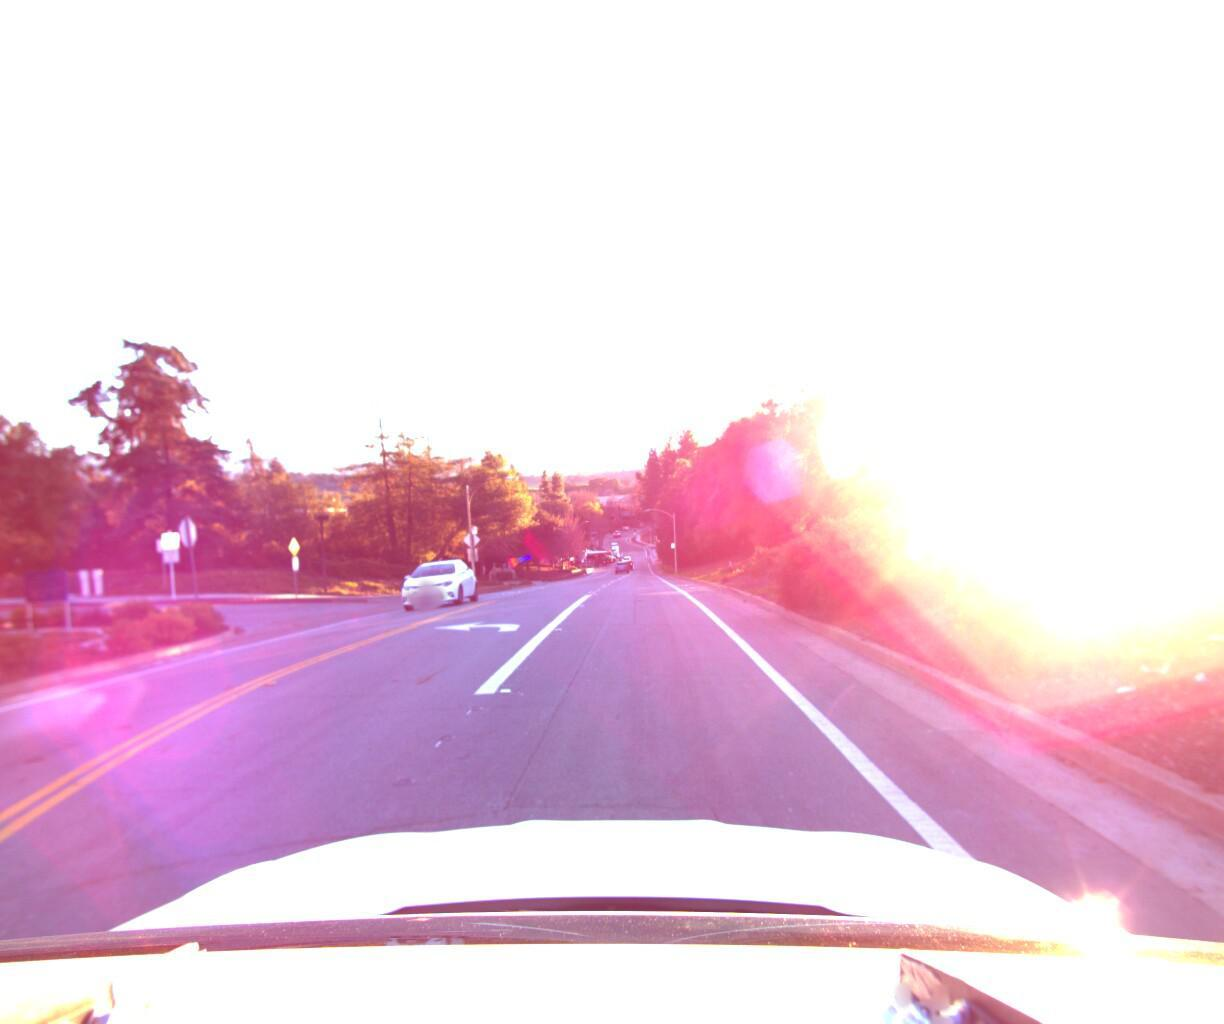car: (394, 555, 482, 617)
